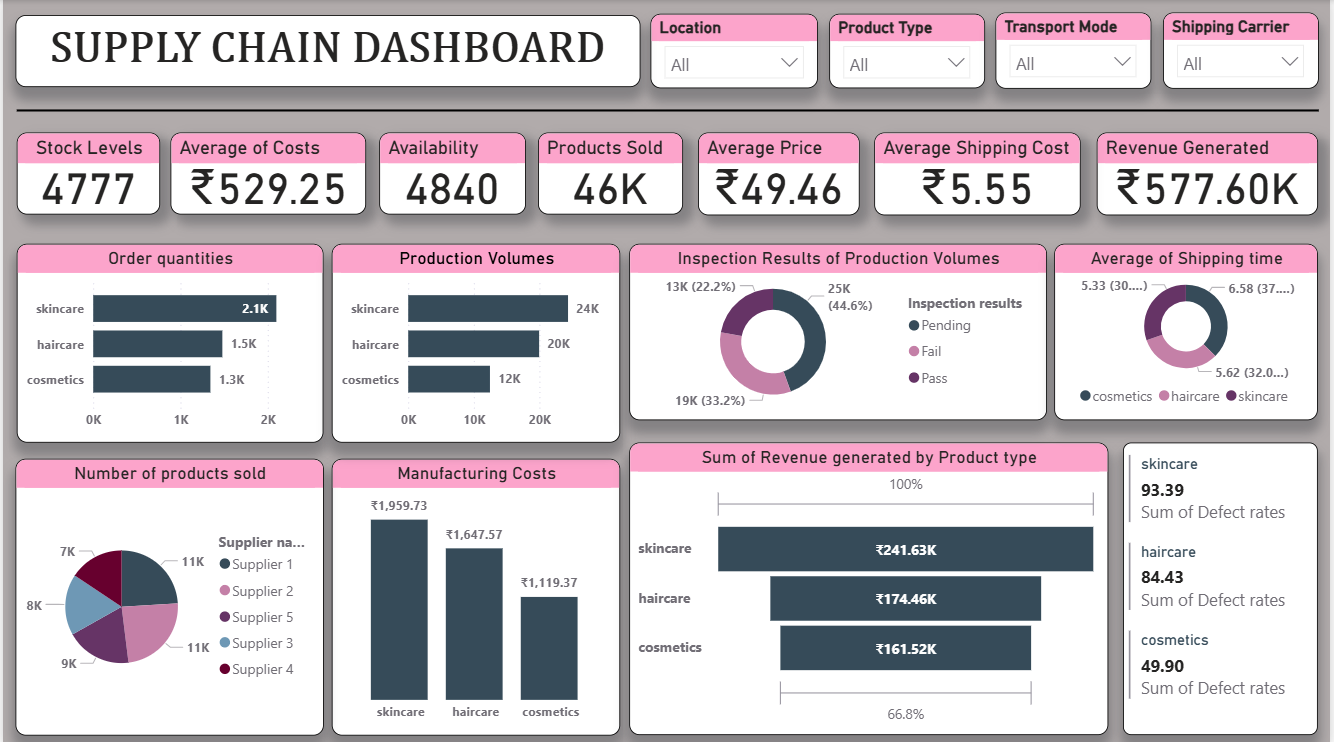

What the dashboard file says about the page in this screenshot:
{"tool":"powerbi","page":{"name":"Dashboard","canvas":[1280,720],"ordinal":1},"visuals":[{"type":"slicer","title":"Location","fields":{"Values":["supply_chain_data.Location"]},"box":[624.7,13,161.6,72.1],"z":1000},{"type":"card","title":"Stock Levels","fields":{"Values":["Sum(supply_chain_data.Stock levels)"]},"box":[13,128.4,138.5,79.4],"z":2000},{"type":"card","title":"Average of Costs","fields":{"Values":["Avg(supply_chain_data.Costs)"]},"box":[161.6,128.4,189,79.4],"z":3000},{"type":"card","title":"Availability","fields":{"Values":["Sum(supply_chain_data.Availability)"]},"box":[363.6,128.4,141.4,79.4],"z":4000},{"type":"card","title":"Products Sold","fields":{"Values":["Sum(supply_chain_data.Number of products sold)"]},"box":[516.5,128.4,139.9,79.4],"z":5000},{"type":"slicer","title":"Product Type","fields":{"Values":["supply_chain_data.Product type"]},"box":[797.8,13,150,72.1],"z":6000},{"type":"slicer","title":"Transport Mode","fields":{"Values":["supply_chain_data.Transportation modes"]},"box":[958,11.5,150,73.6],"z":7000},{"type":"card","title":"Revenue Generated","fields":{"Values":["Sum(supply_chain_data.Revenue generated)"]},"box":[1055.6,127.9,213.5,79.6],"z":8000},{"type":"clusteredBarChart","title":"Order quantities","fields":{"Category":["supply_chain_data.Product type"],"Y":["Sum(supply_chain_data.Order quantities)"]},"box":[13,235.2,295.8,191.9],"z":9000},{"type":"clusteredColumnChart","title":"Manufacturing Costs","fields":{"Category":["supply_chain_data.Product type"],"Y":["Sum(supply_chain_data.Manufacturing costs)"]},"box":[317.4,442.9,278.5,266.9],"z":10000},{"type":"pieChart","title":"Number of products sold","fields":{"Y":["Sum(supply_chain_data.Number of products sold)"],"Category":["supply_chain_data.Supplier name"]},"box":[11.5,442.9,297.2,266.9],"z":11000},{"type":"clusteredBarChart","title":"Production Volumes","fields":{"Category":["supply_chain_data.Product type"],"Y":["Sum(supply_chain_data.Production volumes)"]},"box":[317.3,235.3,278.7,191.8],"z":12000},{"type":"textbox","box":[12.5,14.2,603.3,69.4],"z":13000},{"type":"shape","box":[13,96.7,1256.6,20.2],"z":14000},{"type":"funnel","fields":{"Category":["supply_chain_data.Product type"],"Y":["Sum(supply_chain_data.Revenue generated)"]},"box":[604.4,427.1,462.1,282.3],"z":15000},{"type":"multiRowCard","fields":{"Values":["Sum(supply_chain_data.Defect rates)","supply_chain_data.Product type"]},"box":[1081,427.1,188.2,282.3],"z":16000},{"type":"donutChart","title":"Inspection Results of Production Volumes","fields":{"Category":["supply_chain_data.Inspection results"],"Y":["Sum(supply_chain_data.Production volumes)"]},"box":[604.4,235.3,403,170.1],"z":17000},{"type":"slicer","title":"Shipping Carrier","fields":{"Values":["supply_chain_data.Shipping carriers"]},"box":[1119.6,11.5,150,73.6],"z":18000},{"type":"card","title":"Average Price","fields":{"Values":["Avg(supply_chain_data.Price)"]},"box":[670.8,127.9,155.6,79.6],"z":19000},{"type":"card","title":"Average Shipping Cost","fields":{"Values":["Avg(supply_chain_data.Shipping costs)"]},"box":[840.9,127.9,199.1,79.6],"z":20000},{"type":"donutChart","title":"Average of Shipping time","fields":{"Y":["Avg(supply_chain_data.Shipping times)"],"Category":["supply_chain_data.Product type"]},"box":[1014.6,235.3,254.6,170.1],"z":21000}]}

Visuals, with their boxes in screenshot pixels (x1, y1, x2, y2), scaled from the page's 1280x720 canvas onto the 1334x742 screenshot:
"Location" slicer: [left=651, top=13, right=819, bottom=88]
"Stock Levels" card: [left=14, top=132, right=158, bottom=214]
"Average of Costs" card: [left=168, top=132, right=365, bottom=214]
"Availability" card: [left=379, top=132, right=526, bottom=214]
"Products Sold" card: [left=538, top=132, right=684, bottom=214]
"Product Type" slicer: [left=831, top=13, right=988, bottom=88]
"Transport Mode" slicer: [left=998, top=12, right=1155, bottom=88]
"Revenue Generated" card: [left=1100, top=132, right=1323, bottom=214]
"Order quantities" clusteredBarChart: [left=14, top=242, right=322, bottom=440]
"Manufacturing Costs" clusteredColumnChart: [left=331, top=456, right=621, bottom=731]
"Number of products sold" pieChart: [left=12, top=456, right=322, bottom=731]
"Production Volumes" clusteredBarChart: [left=331, top=242, right=621, bottom=440]
textbox: [left=13, top=15, right=642, bottom=86]
shape: [left=14, top=100, right=1323, bottom=120]
funnel - supply_chain_data.Product type x Sum(supply_chain_data.Revenue generated): [left=630, top=440, right=1111, bottom=731]
multiRowCard - Sum(supply_chain_data.Defect rates) x supply_chain_data.Product type: [left=1127, top=440, right=1323, bottom=731]
"Inspection Results of Production Volumes" donutChart: [left=630, top=242, right=1050, bottom=418]
"Shipping Carrier" slicer: [left=1167, top=12, right=1323, bottom=88]
"Average Price" card: [left=699, top=132, right=861, bottom=214]
"Average Shipping Cost" card: [left=876, top=132, right=1084, bottom=214]
"Average of Shipping time" donutChart: [left=1057, top=242, right=1323, bottom=418]
